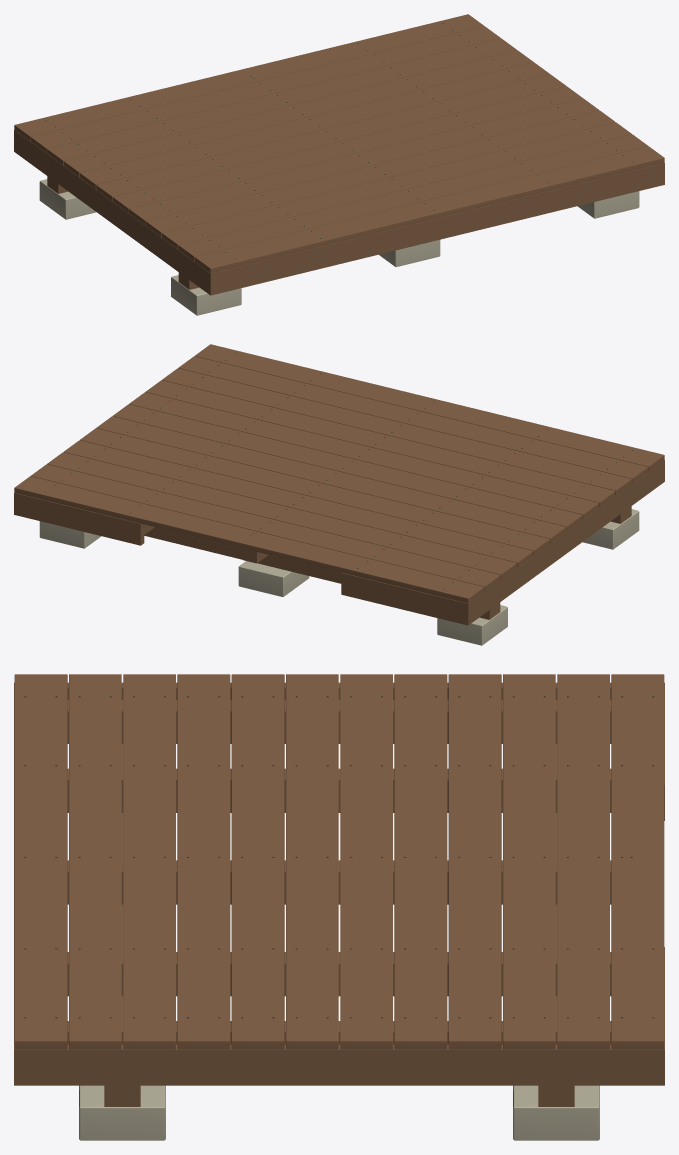
File: rpg-mansion-garden-supported-oak-terrace-01.glb
3 views of the same model, one above another, from view 1: azimuth 30°, elevation 25°; view 2: azimuth 150°, elevation 25°; view 3: azimuth 270°, elevation 25° (orthographic). The views are drawn at different scales.
Parts seen in each view (by area): view 1: rpg-mansion-garden-supported-oak-terrace-01; view 2: rpg-mansion-garden-supported-oak-terrace-01; view 3: rpg-mansion-garden-supported-oak-terrace-01.
Part boxes in pixels (box(x1,y1,x2,y2)): rpg-mansion-garden-supported-oak-terrace-01: box(14, 14, 664, 315); rpg-mansion-garden-supported-oak-terrace-01: box(14, 344, 664, 645); rpg-mansion-garden-supported-oak-terrace-01: box(14, 674, 664, 1140).
Bounding box in the file's own units: 2.4 × 0.3206 × 1.8.
